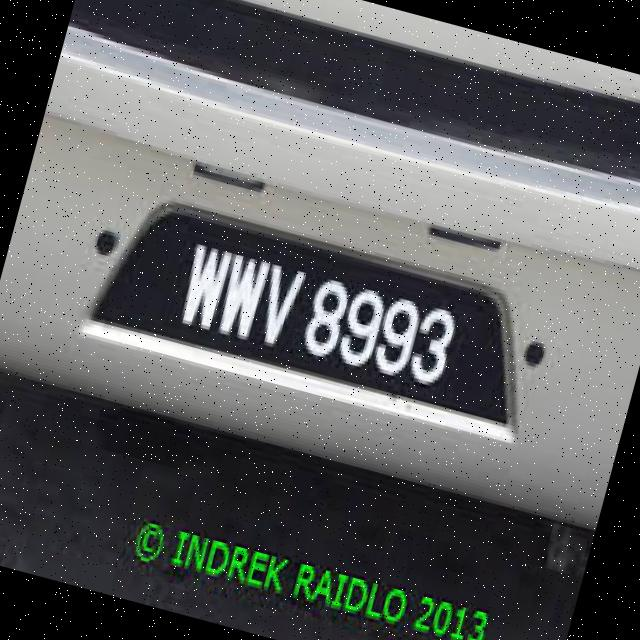License_Plate: (84, 188, 536, 432)
